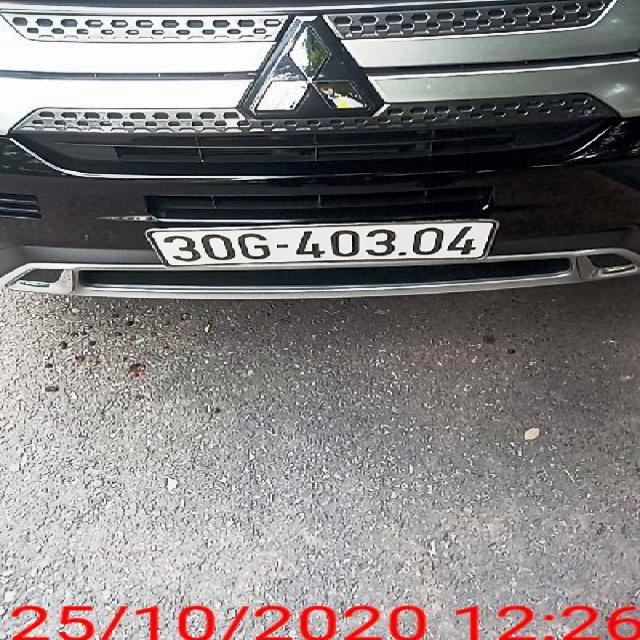license_plate: (151, 221, 496, 268)
